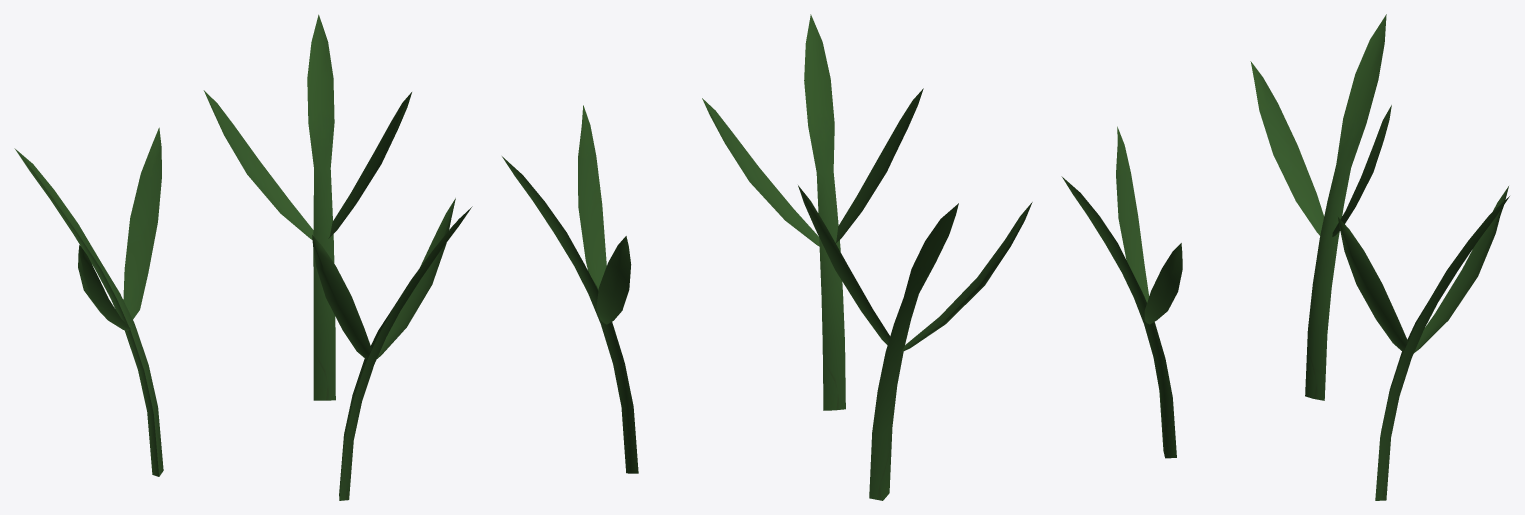
File: Crop_Spinach_Stage_02.fbx
3 renders of one model, left to right at view 1: azimuth 30°, elevation 25°; view 2: azimuth 150°, elevation 25°; view 3: azimuth 270°, elevation 25°, orthographic. The views are drawn at different scales.
Visible parts, largest first — view 1: Spinach_Stage_02; view 2: Spinach_Stage_02; view 3: Spinach_Stage_02.
Part boxes in pixels (box(x1,y1,x2,y2)): Spinach_Stage_02: box(14, 14, 472, 500); Spinach_Stage_02: box(502, 14, 1032, 500); Spinach_Stage_02: box(1061, 14, 1509, 500).
Size of the model in its own units: 34.48 by 28.71 by 35.14.
